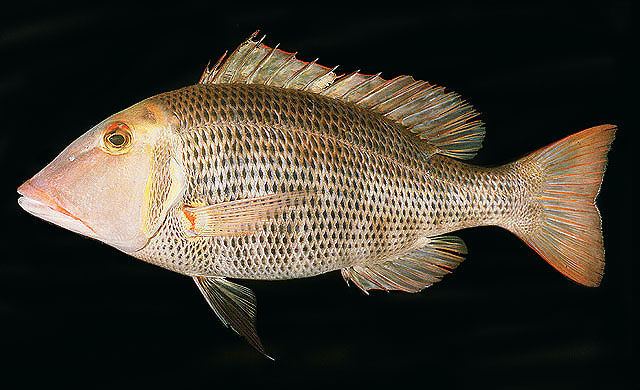fish: (15, 31, 619, 361)
